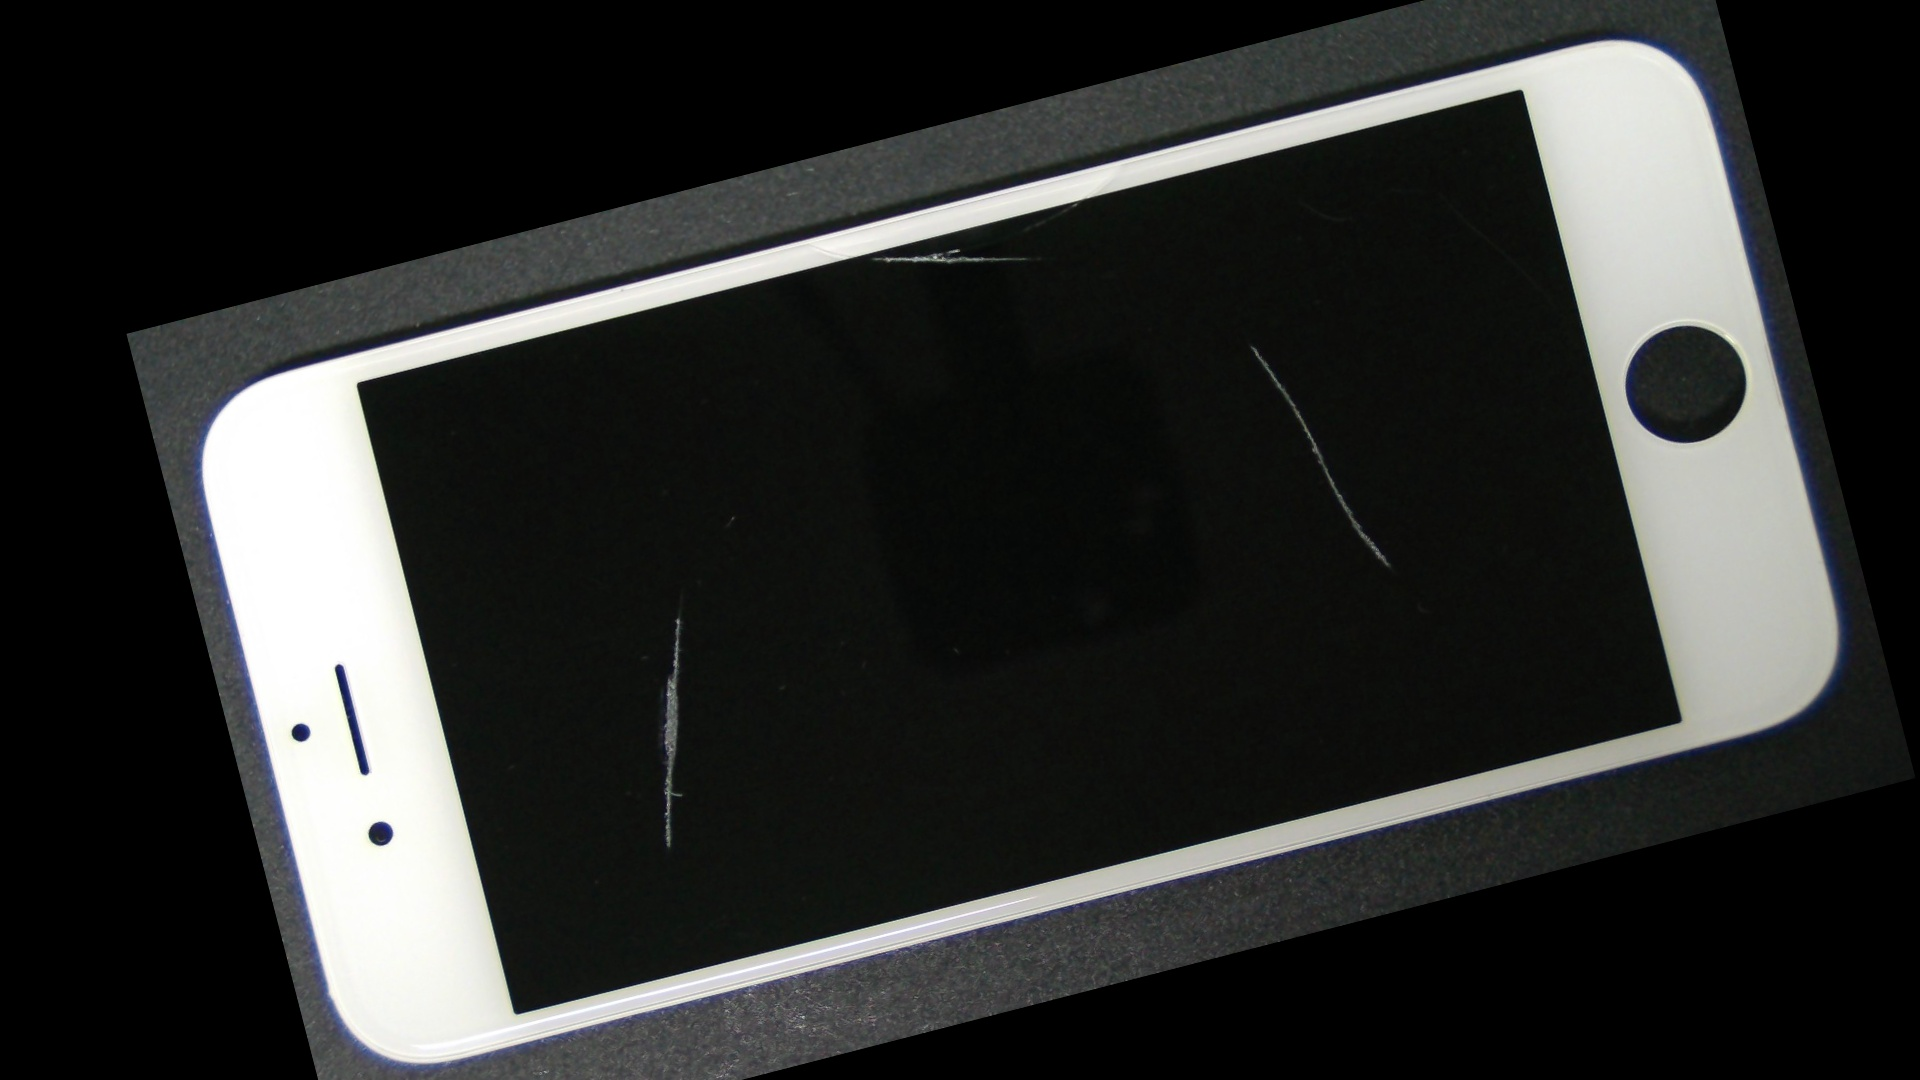oil: (687, 69, 1807, 622), (404, 359, 955, 873), (498, 111, 1244, 405)
